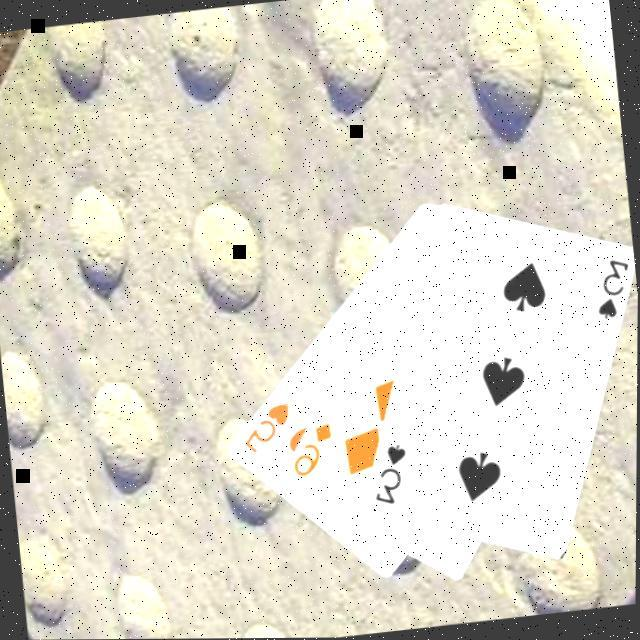3S: (363, 439, 412, 509), (586, 254, 635, 324)
5H: (235, 398, 294, 457)
9D: (283, 418, 337, 481)
